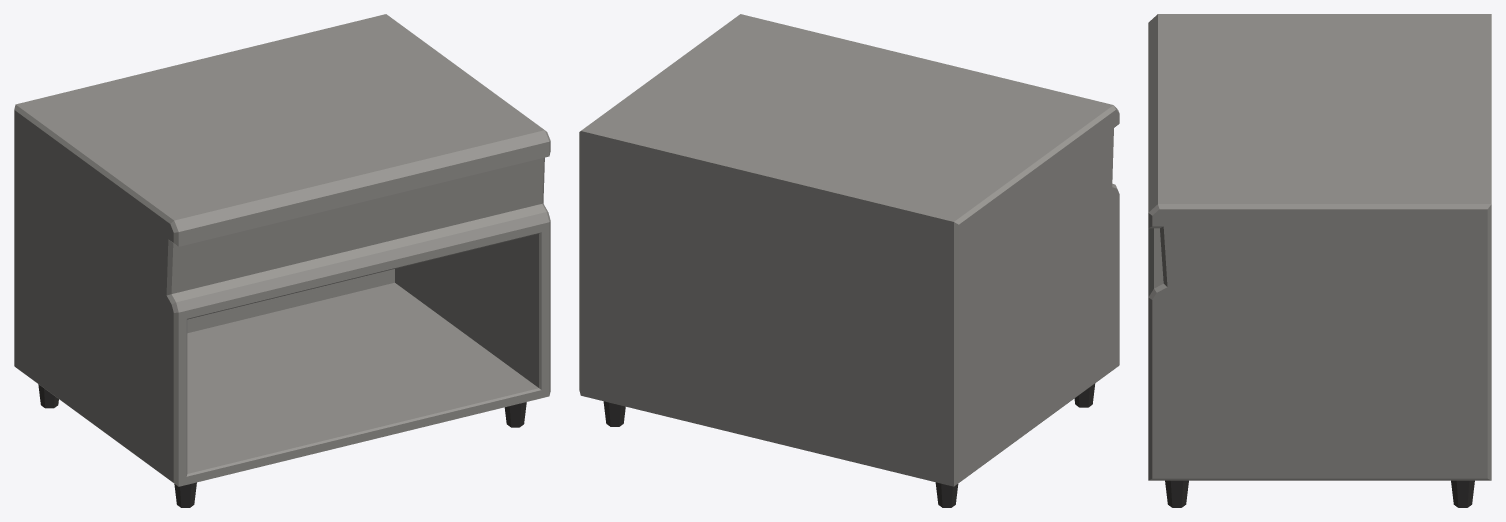
Rendered from SM_Props_Interior_Shop_Restaurant_Kitchen_Cabinet.fbx.
The picture shows the model from 3 angles, left to right: view 1: azimuth 30°, elevation 25°; view 2: azimuth 150°, elevation 25°; view 3: azimuth 270°, elevation 25°; orthographic projection. The views are drawn at different scales.
Parts seen in each view (by area): view 1: SM_Props_Interior_Shop_Restaurant_Kitchen_Cabinet; view 2: SM_Props_Interior_Shop_Restaurant_Kitchen_Cabinet; view 3: SM_Props_Interior_Shop_Restaurant_Kitchen_Cabinet.
Boxes of the visible parts, box(x1,y1,x2,y2) form: SM_Props_Interior_Shop_Restaurant_Kitchen_Cabinet: box(14, 14, 550, 507); SM_Props_Interior_Shop_Restaurant_Kitchen_Cabinet: box(579, 14, 1119, 507); SM_Props_Interior_Shop_Restaurant_Kitchen_Cabinet: box(1148, 14, 1491, 507).
Size of the model in its own units: 120 by 90 by 90.
